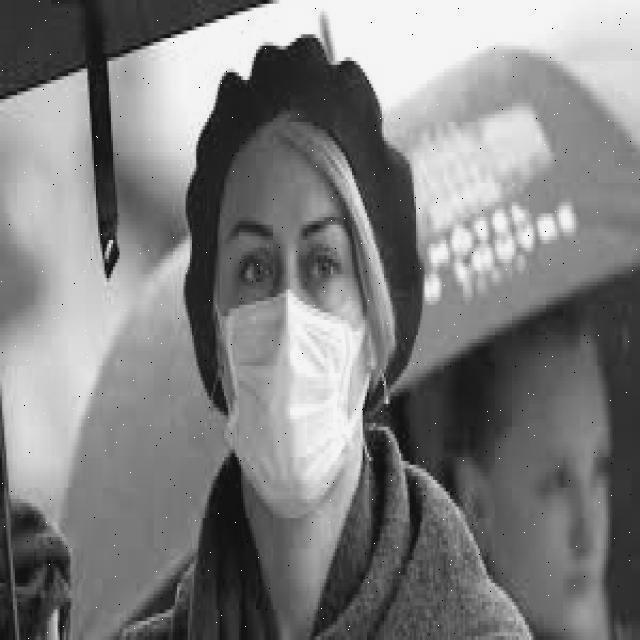fake: (201, 280, 382, 523)
real: (214, 139, 365, 524)
